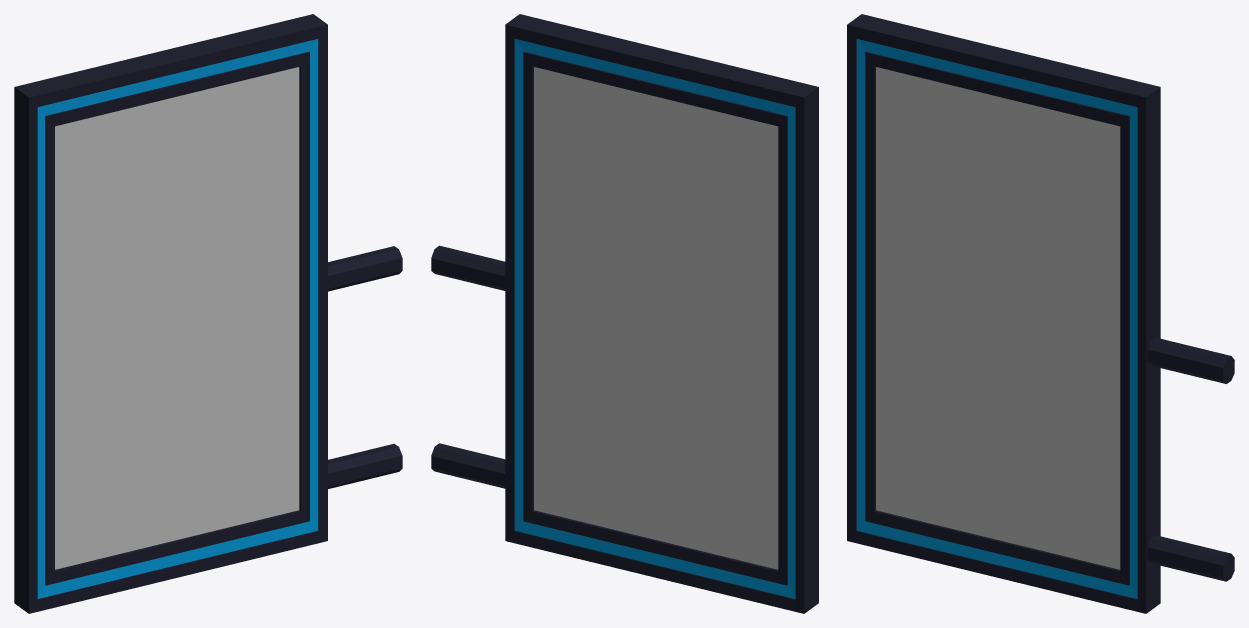
The model's file is Sign_SingleStreet04.fbx.
3 views of the same model, side by side, from view 1: azimuth 30°, elevation 25°; view 2: azimuth 150°, elevation 25°; view 3: azimuth 330°, elevation 25° (orthographic).
Parts seen in each view (by area): view 1: Cube.520; view 2: Cube.520; view 3: Cube.520.
Boxes of the visible parts, bbox=[...] form: Cube.520: bbox=[14, 14, 402, 613]; Cube.520: bbox=[431, 14, 818, 613]; Cube.520: bbox=[847, 14, 1234, 613].
Size of the model in its own units: 94.52 by 124 by 6.37.
